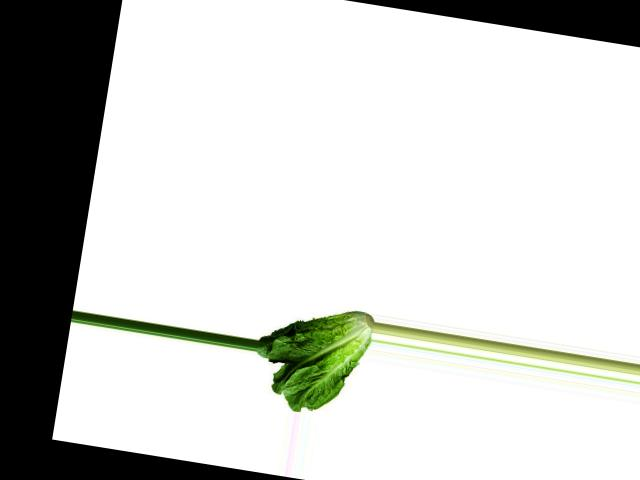lettuce: (250, 296, 374, 422)
